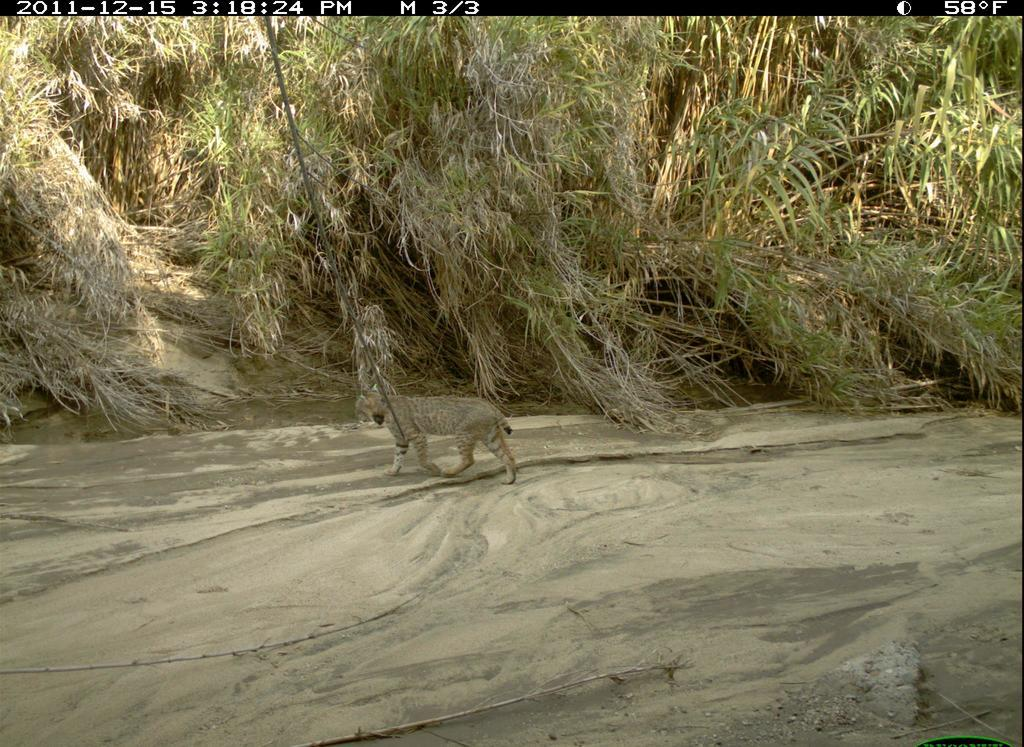bobcat: (349, 379, 524, 492)
